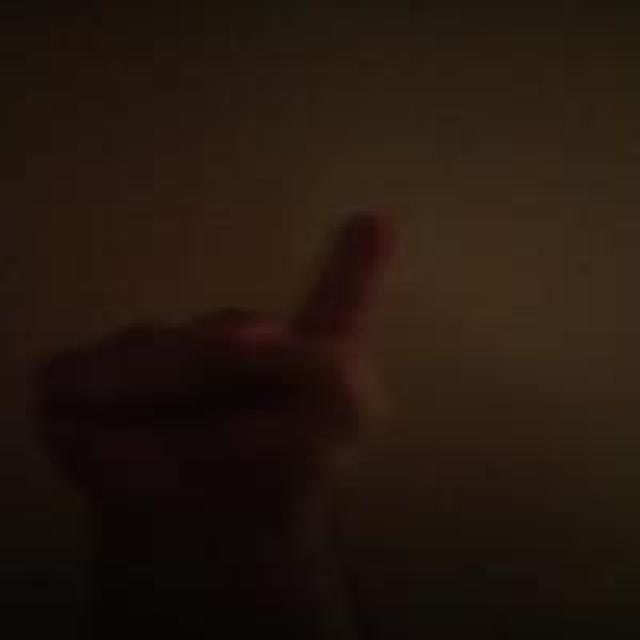Z: (43, 212, 395, 550)
